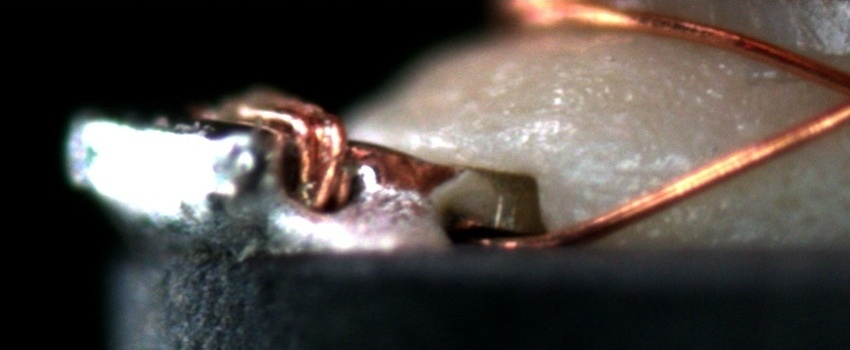CL: (832, 62, 850, 120)
DL: (611, 146, 690, 202)
TE: (196, 83, 353, 209)
